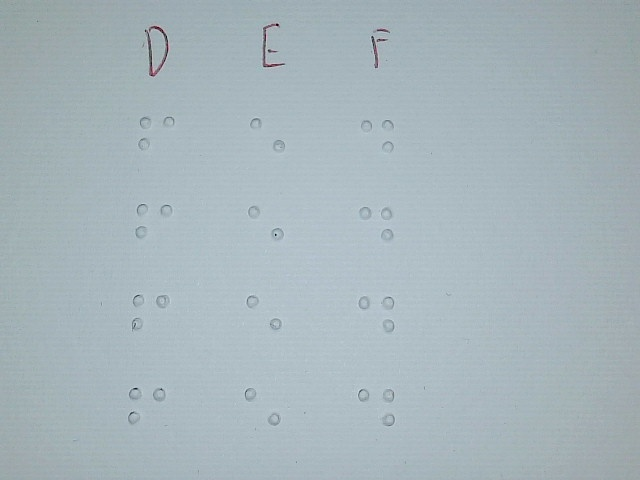D: (359, 104, 396, 176), (357, 191, 394, 263), (358, 280, 395, 352), (358, 373, 395, 445)
E: (249, 102, 287, 174), (246, 193, 284, 265), (245, 281, 283, 353), (243, 373, 281, 445)
F: (137, 100, 177, 172), (134, 188, 174, 260), (130, 278, 170, 350), (128, 373, 168, 445)
